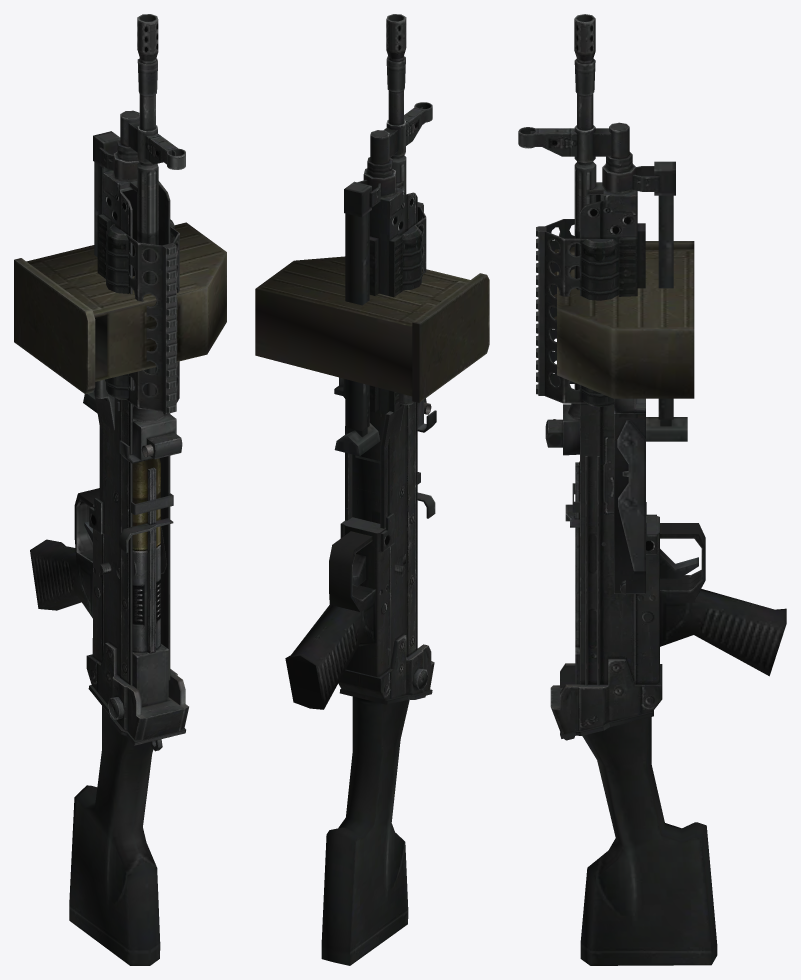
File: MK46_SteadyAim.obj
3 renders of one model, left to right at view 1: azimuth 30°, elevation 25°; view 2: azimuth 150°, elevation 25°; view 3: azimuth 270°, elevation 25°, orthographic. The views are drawn at different scales.
Parts seen in each view (by area): view 1: Part_14, Part_13, Part_0; view 2: Part_14, Part_13, Part_0; view 3: Part_14, Part_13, Part_0.
Part boxes in pixels (left/top/right/bottom): Part_14: left=30, top=14, right=188, bottom=965; Part_13: left=14, top=222, right=226, bottom=394; Part_0: left=94, top=379, right=166, bottom=578; Part_14: left=285, top=14, right=436, bottom=965; Part_13: left=255, top=256, right=489, bottom=402; Part_0: left=334, top=377, right=413, bottom=576; Part_14: left=518, top=14, right=786, bottom=965; Part_13: left=552, top=241, right=694, bottom=398; Part_0: left=601, top=398, right=645, bottom=594.
Bounding box in the file's own units: 0.1927 × 1.01 × 0.2612.
Materials: 1 (1 with a texture image).
